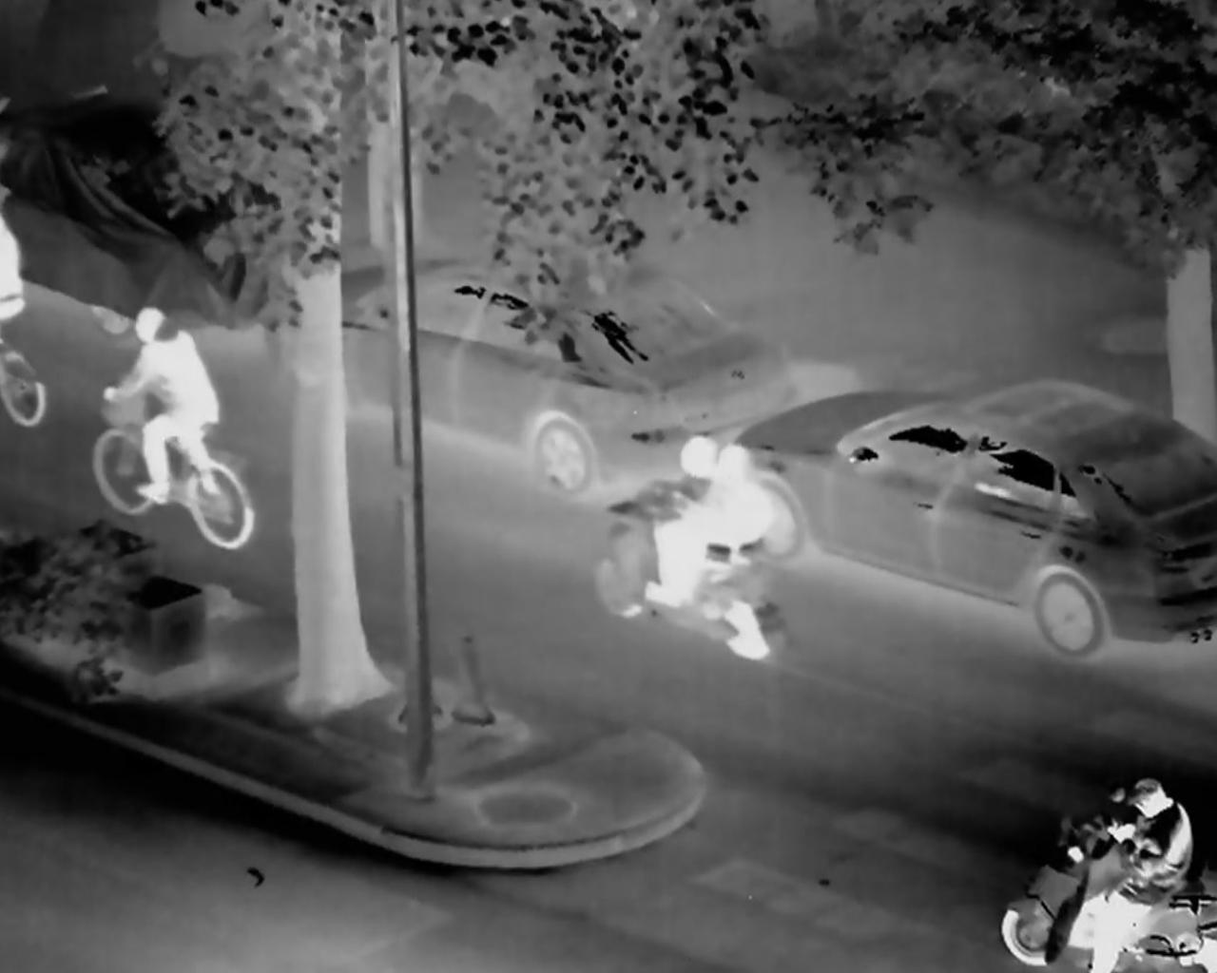person: (1053, 763, 1192, 973), (121, 297, 226, 534), (660, 432, 774, 611)
